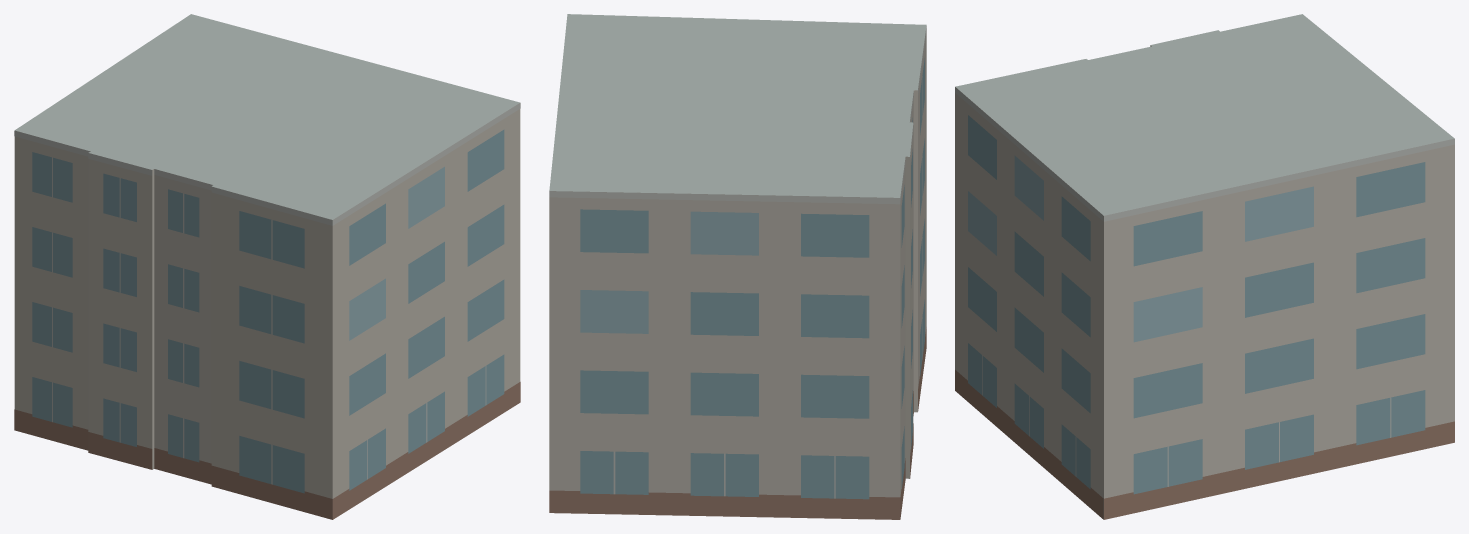
The model's file is survey-upis-32908633.glb.
3 views of the same model, side by side, from view 1: azimuth 30°, elevation 25°; view 2: azimuth 150°, elevation 25°; view 3: azimuth 270°, elevation 25° (orthographic). The views are drawn at different scales.
Visible parts, largest first — view 1: survey-upis-32908633.tmp; view 2: survey-upis-32908633.tmp; view 3: survey-upis-32908633.tmp.
Part boxes in pixels (x1,y1,x2,y2): survey-upis-32908633.tmp: [14, 14, 520, 519]; survey-upis-32908633.tmp: [549, 14, 926, 519]; survey-upis-32908633.tmp: [955, 14, 1454, 519].
Bounding box in the file's own units: 17.67 × 12.4 × 18.48.
